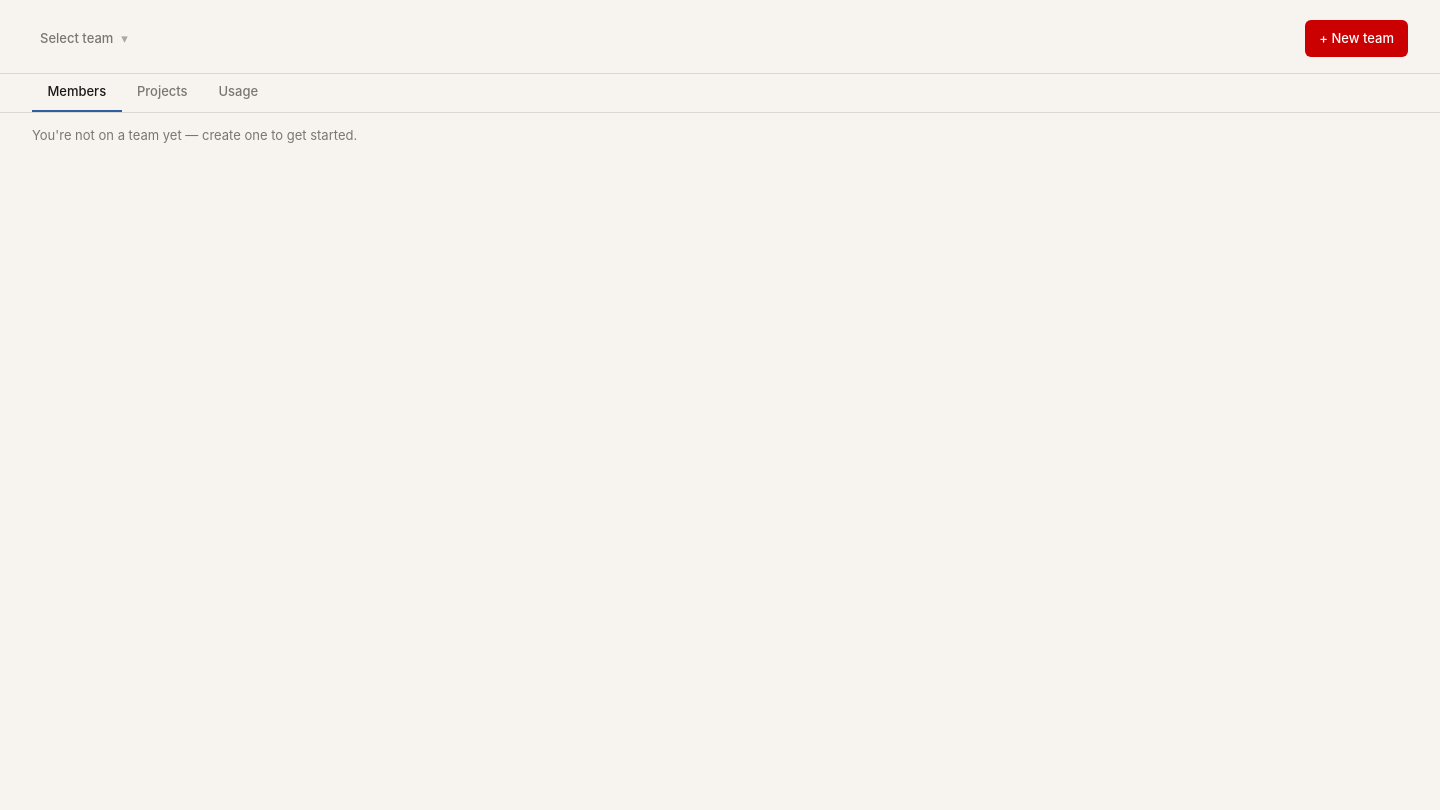
Test case: TeamPage — with a team › opens the Create Team dialog with no manual slug field
Click the button "+ New team". click: [1357, 38]
box: [1305,20,1408,57]
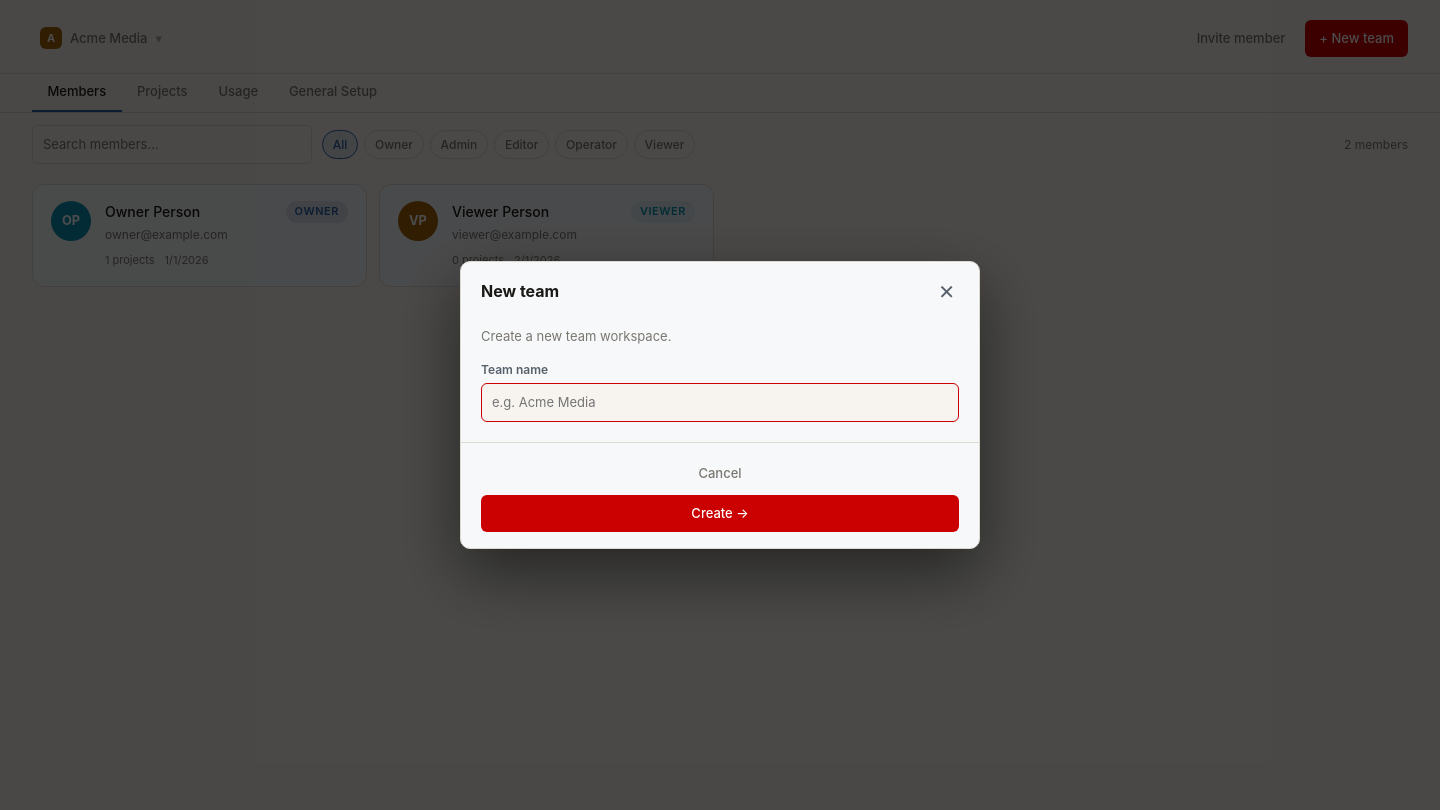
Expected: the field with placeholder "e.g. Acme Media" is shown, [481,383,959,422]
